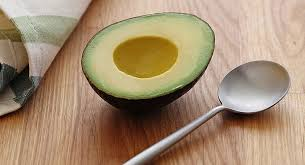aguacate: (75, 11, 216, 111)
